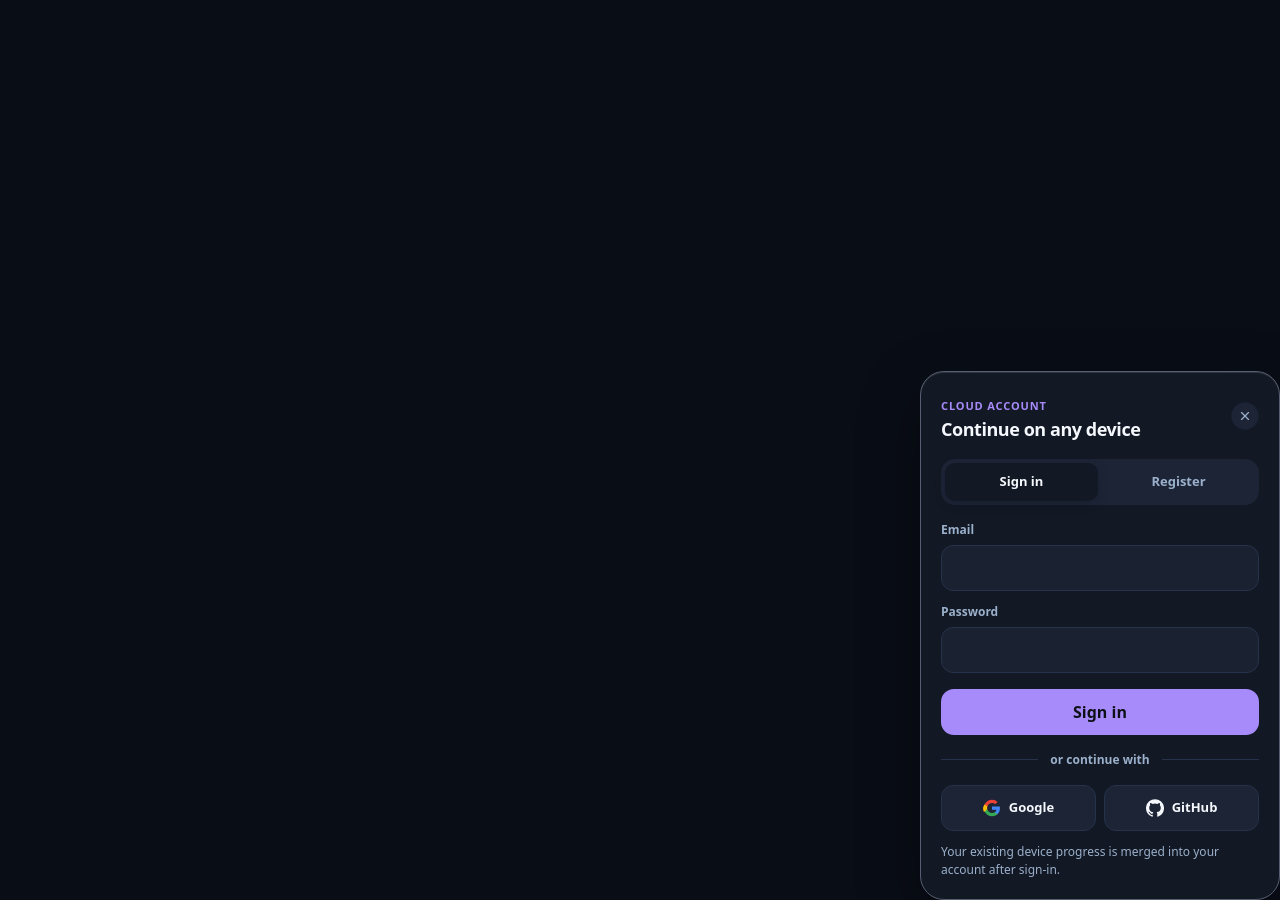
Test case: AccountPopover › reports OAuth errors inside the dialog instead of producing an unhandled rejection
This screenshot has width=1280, height=900.
(page scrolled)
Click the button "Google": (1018, 808) [941,784,1096,830]
(page scrolled)
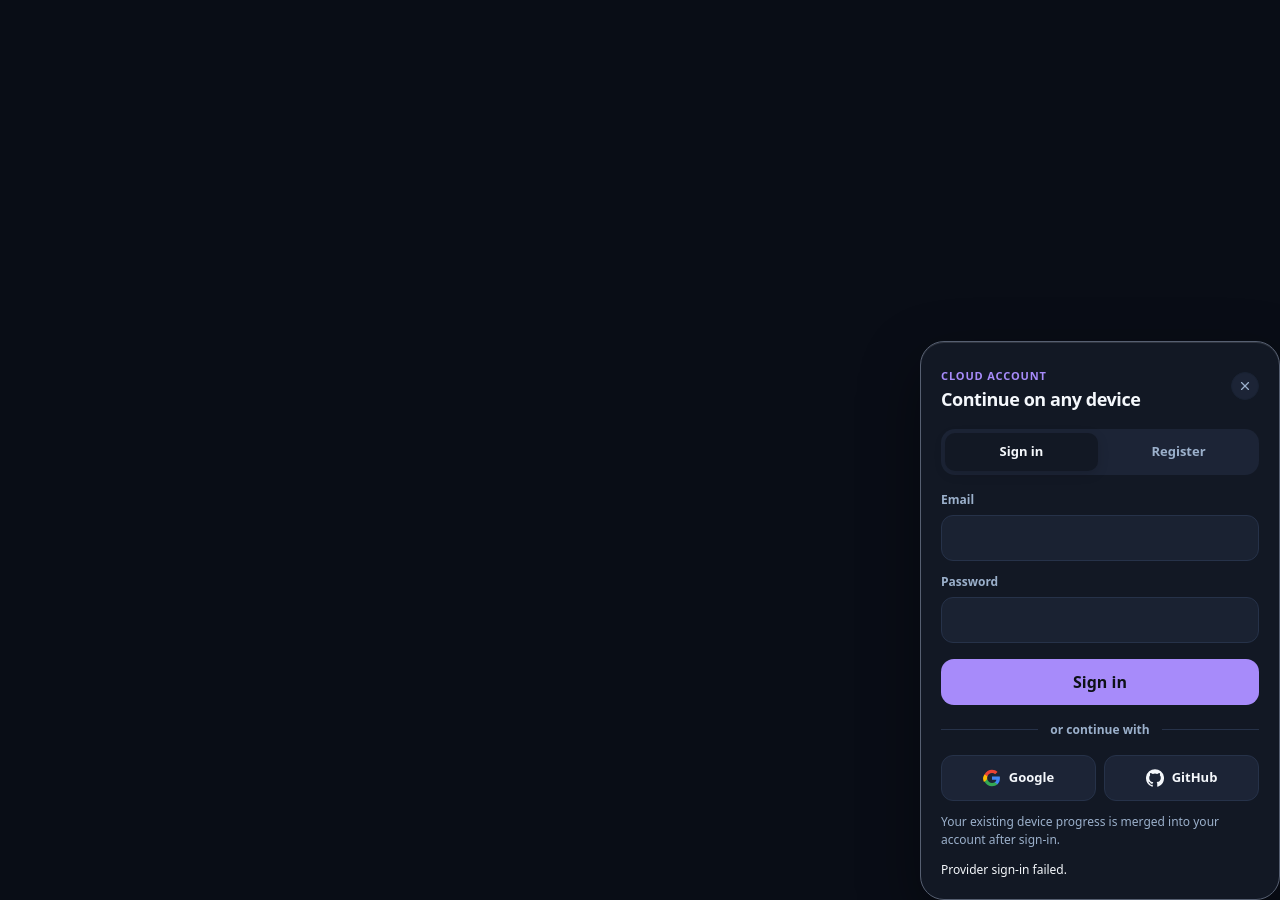
Expected: the message reads "Provider sign-in failed.", [941,860,1067,878]
